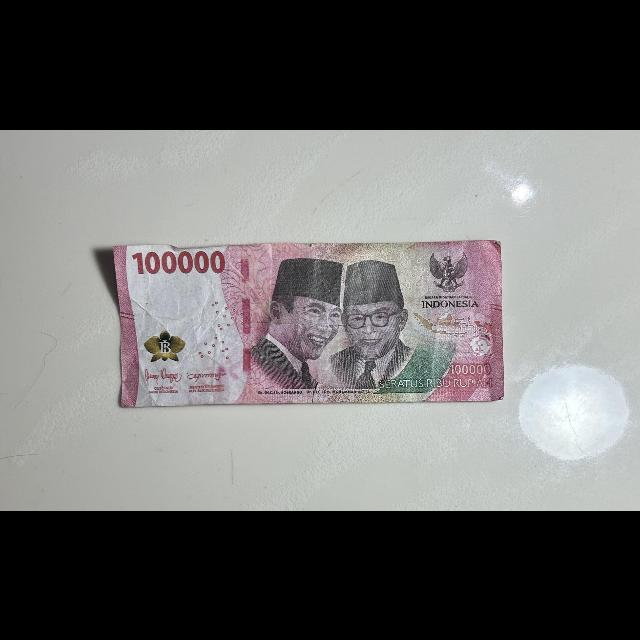Palsu-100k: (112, 236, 506, 408)
Tinta-Palsu-100k: (144, 329, 186, 361)
